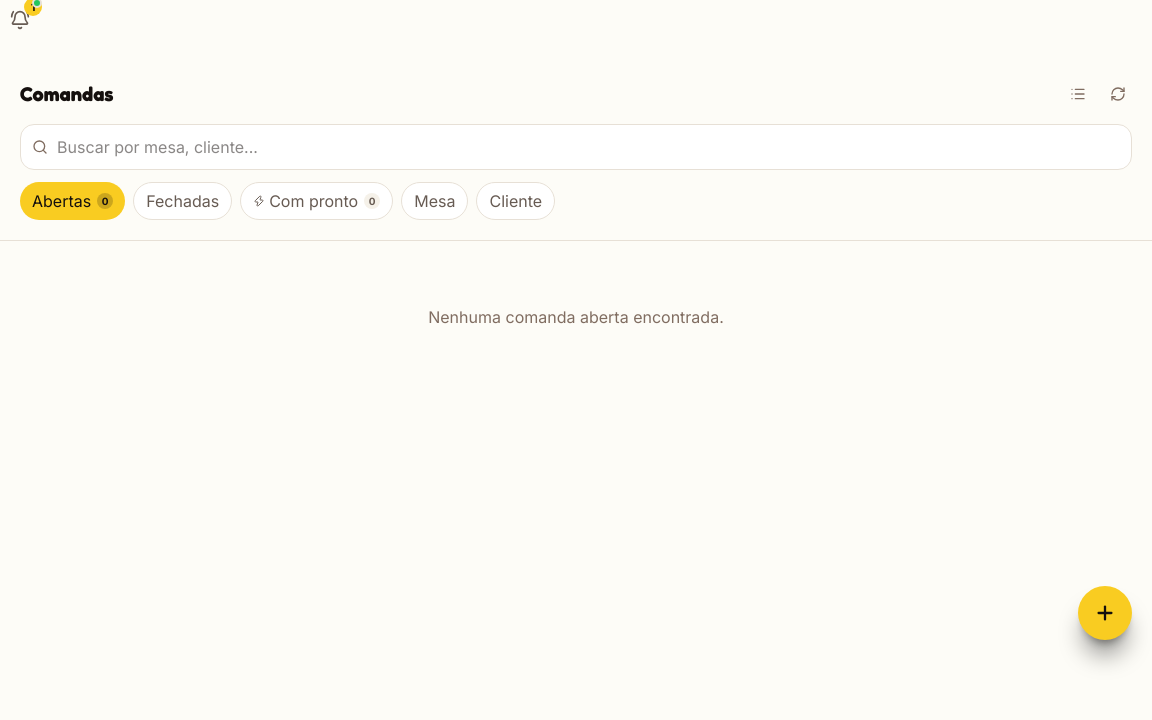
sino no header › a lista mostra título, canal e que está lida; as não lidas vêm destacadas
Click the button named "Alertas (1 não lidos)" at (20, 20), box [0,0,40,40]
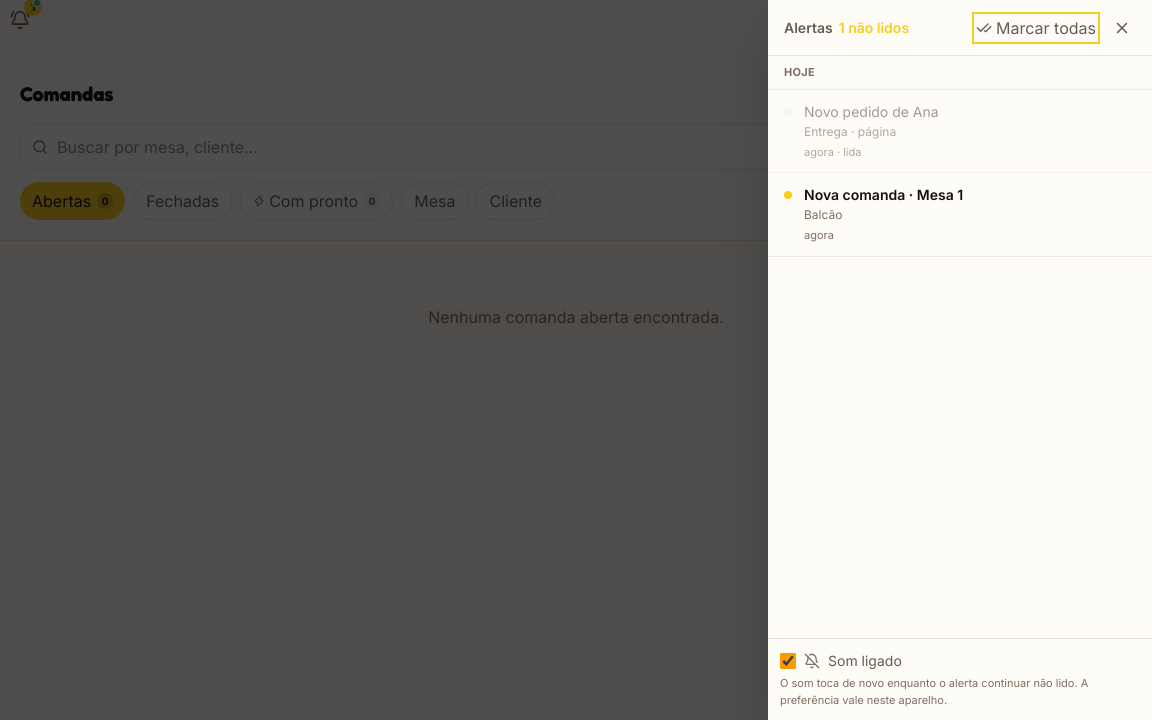
Now the text "Nova comanda · Mesa 1" is shown, box [804,186,963,203]
Now the text "Balcão" is shown, box [804,207,842,222]
Now the text "agora · lida" is shown, box [804,144,862,158]
